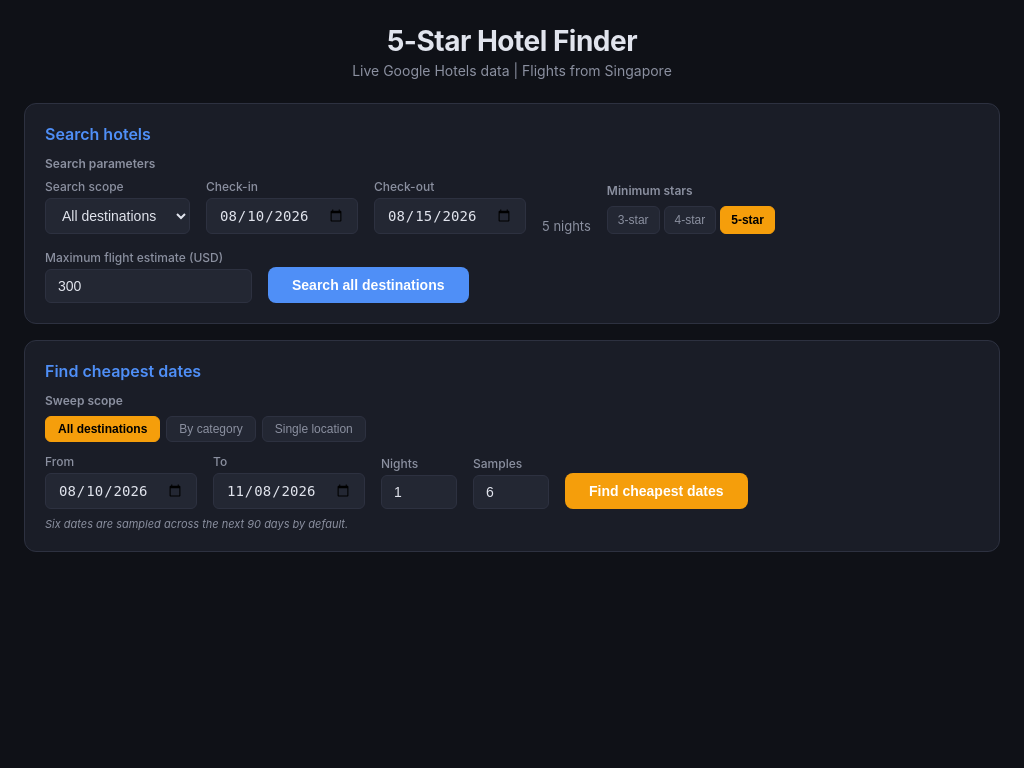
Test: latest search and comparison ownership › keeps only the newest search result and its query dates when responses finish out of order
Expected: the button "Find cheapest dates" is enabled, x1=565 y1=473 x2=748 y2=509
Type "2026-09-10" into the date field labelled "Check-in" at point(282, 216), box x1=206 y1=198 x2=358 y2=234
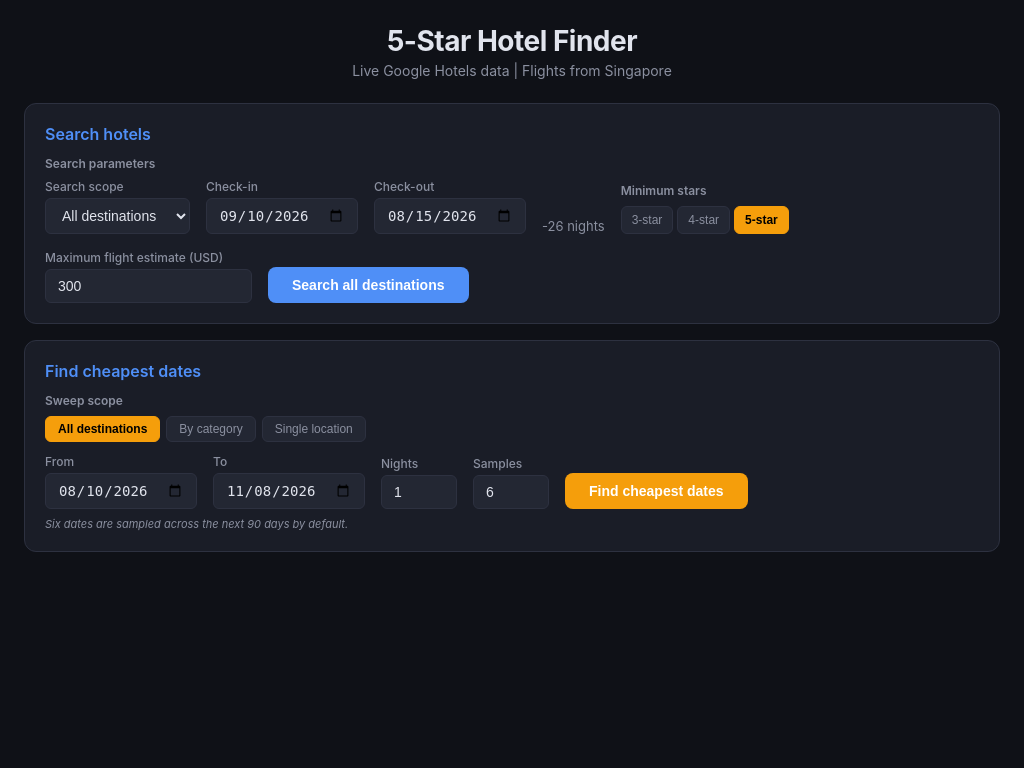
Type "2026-09-15" into the date field labelled "Check-out" at point(450, 216), box x1=374 y1=198 x2=526 y2=234
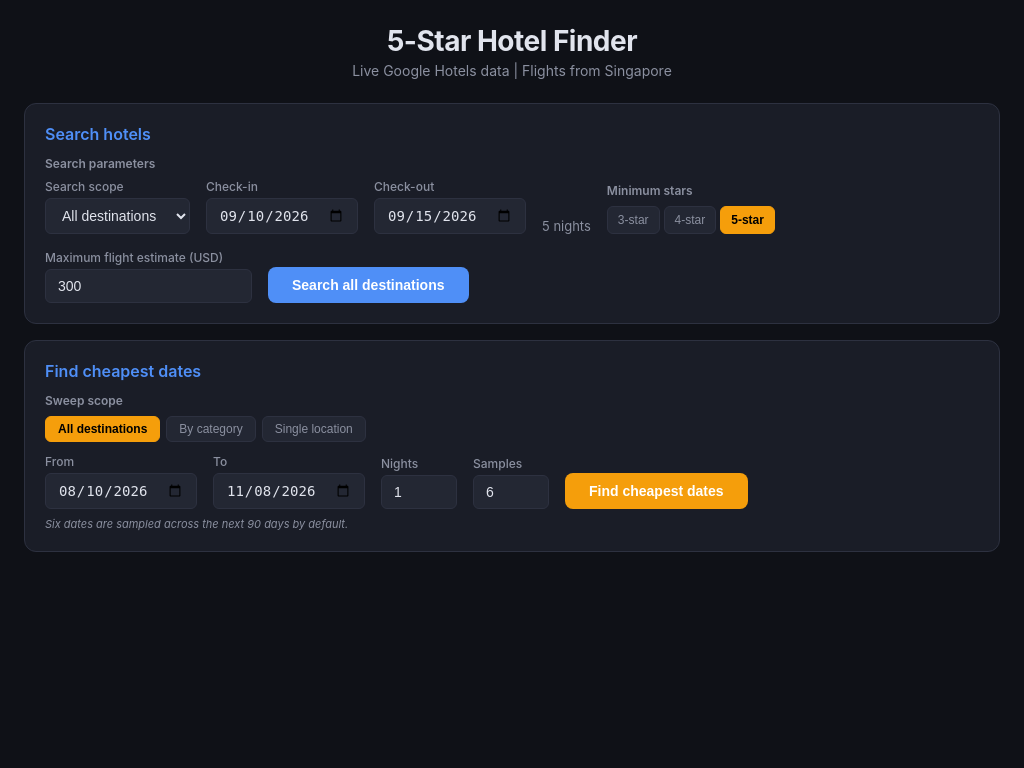
Click the button "Search all destinations" at point(368, 285), box x1=268 y1=267 x2=468 y2=303
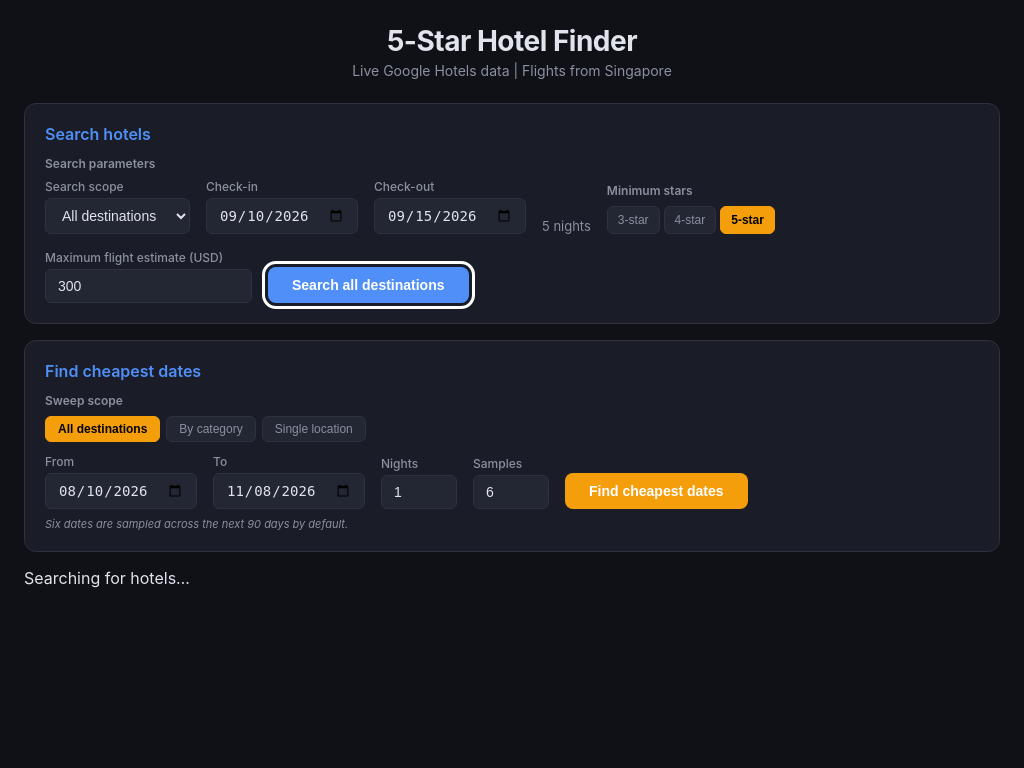
Type "2026-10-20" into the date field labelled "Check-in" at point(282, 216), box x1=206 y1=198 x2=358 y2=234
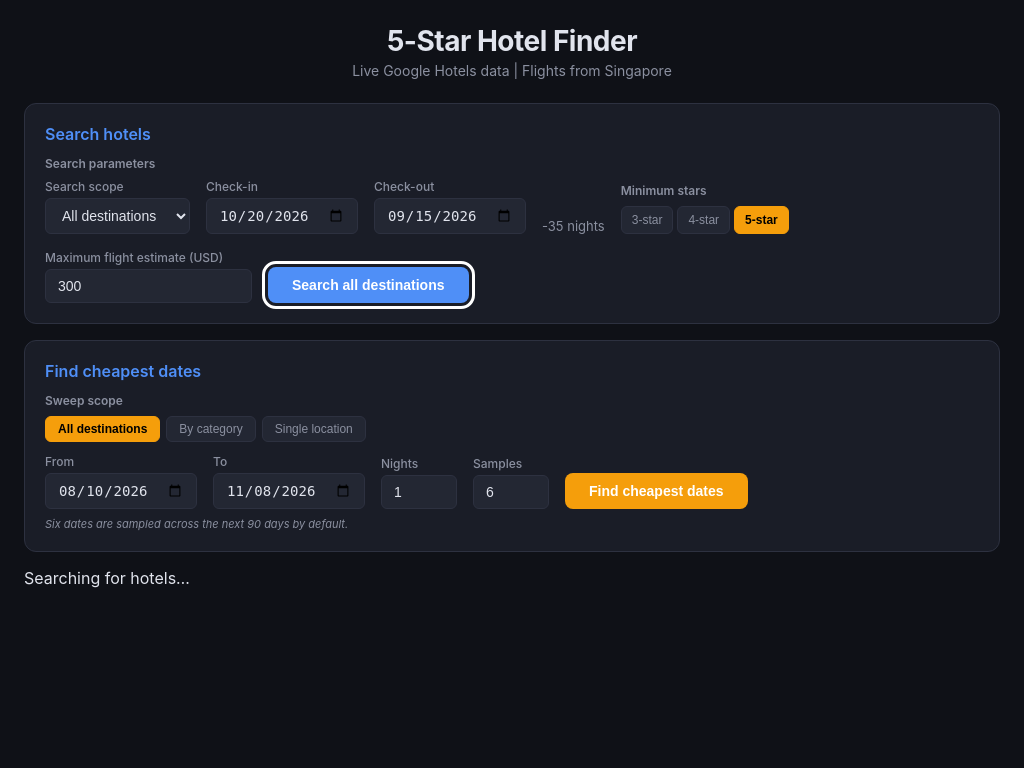
Type "2026-10-25" into the date field labelled "Check-out" at point(450, 216), box x1=374 y1=198 x2=526 y2=234
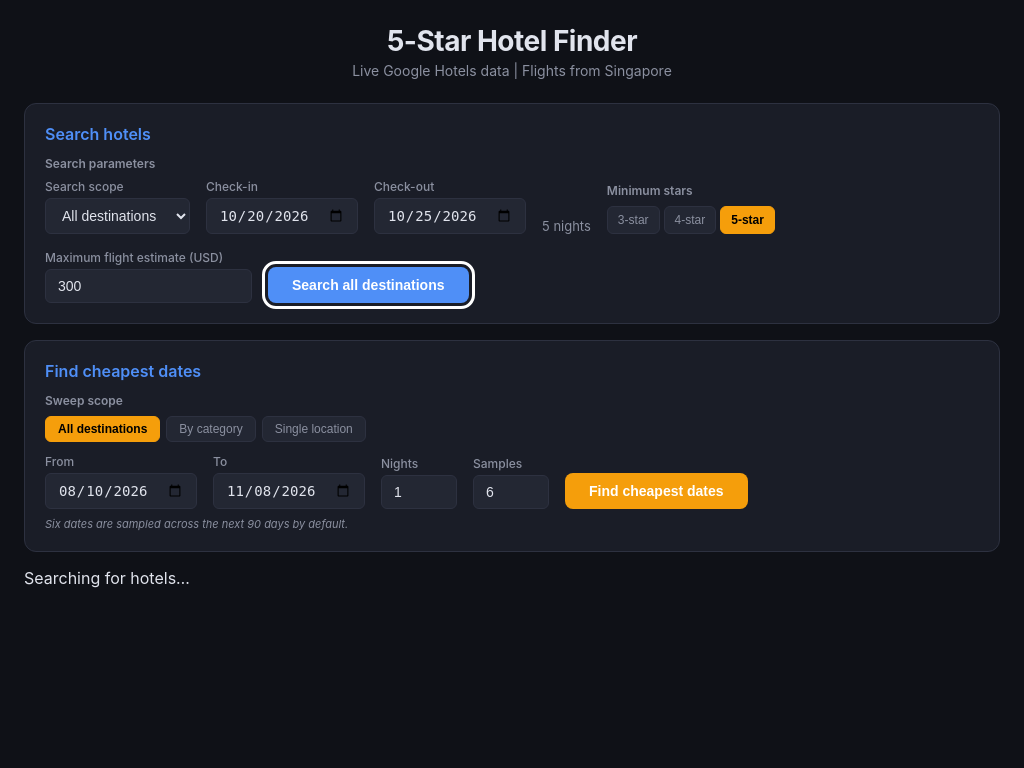
Click the button "Search all destinations" at point(368, 285), box x1=268 y1=267 x2=468 y2=303
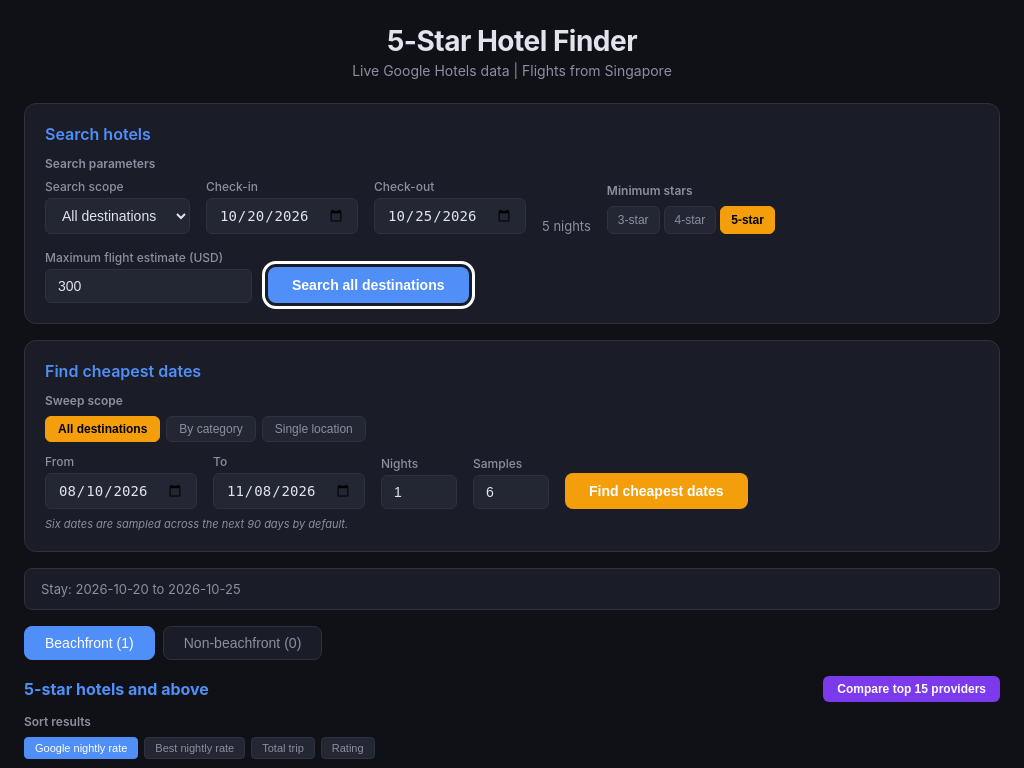
Now the text "Stay: 2026-10-20 to 2026-10-25" is shown, box x1=24 y1=568 x2=1000 y2=610
